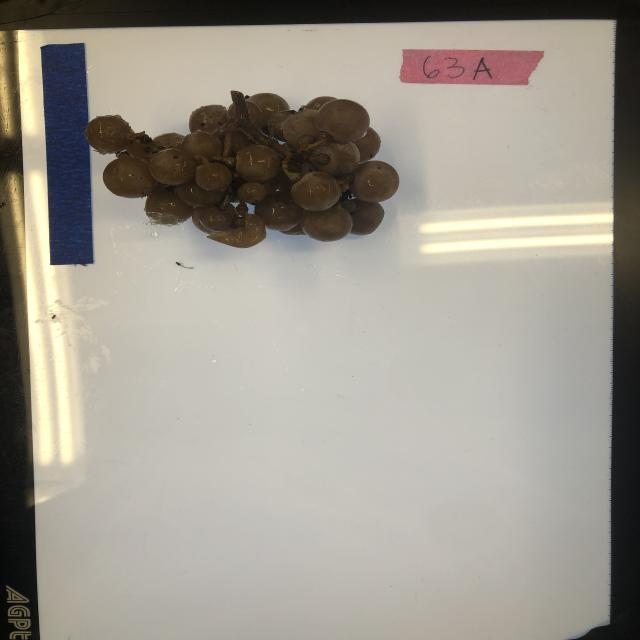grape_cluster: (80, 89, 400, 249)
index: (399, 49, 546, 86)
measure_label: (40, 42, 95, 265)
